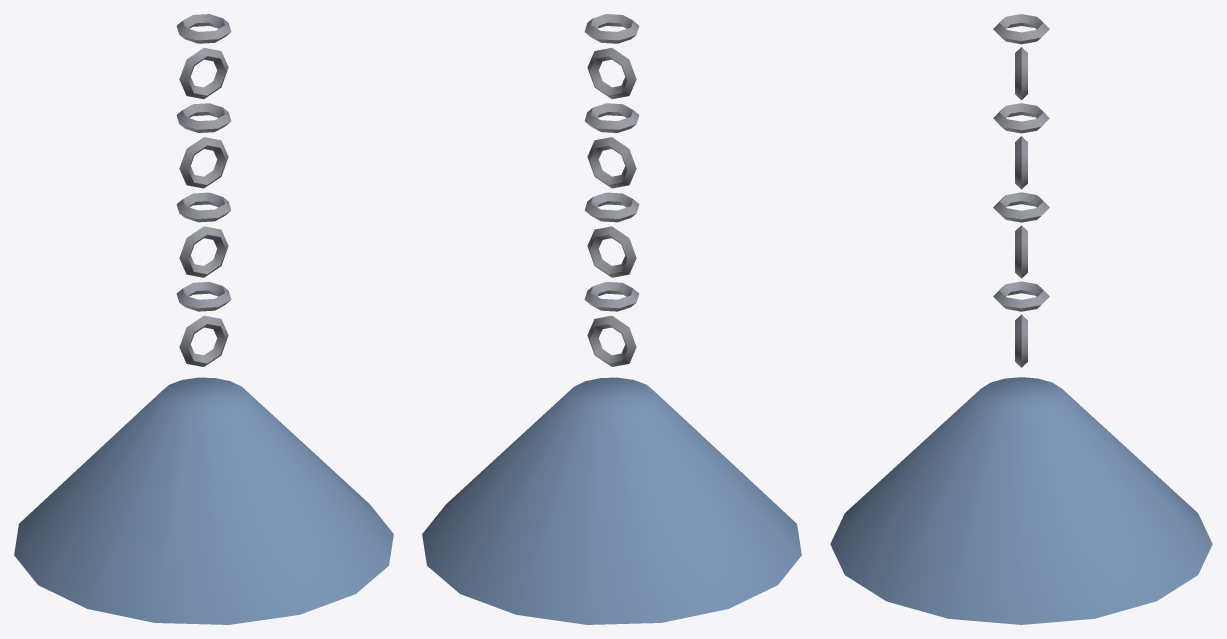
The model's file is rs_hanging_light.glb.
3 views of the same model, side by side, from view 1: azimuth 30°, elevation 25°; view 2: azimuth 150°, elevation 25°; view 3: azimuth 270°, elevation 25° (orthographic).
Visible parts, largest first — view 1: rs_hanging_light; view 2: rs_hanging_light; view 3: rs_hanging_light.
Boxes of the visible parts, x1,y1,x2,y2 form: rs_hanging_light: (14,14,393,624); rs_hanging_light: (422,14,801,624); rs_hanging_light: (830,14,1212,624).
Size of the model in its own units: 0.7 by 1.17 by 0.7.
